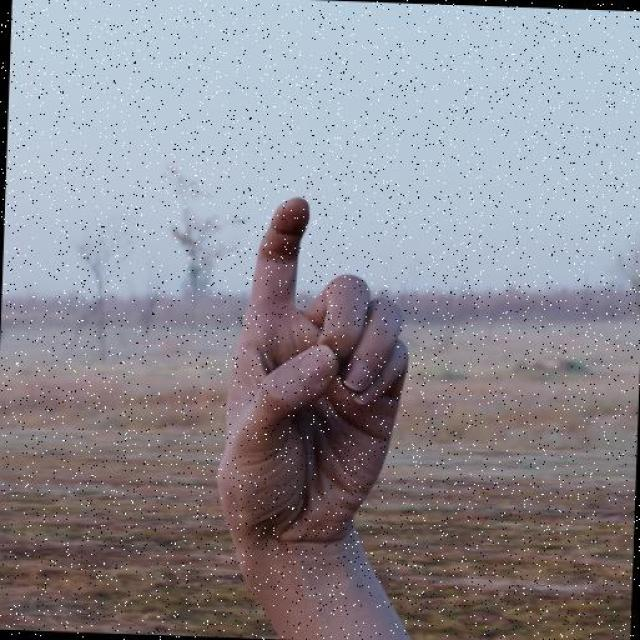X: (197, 191, 431, 595)
